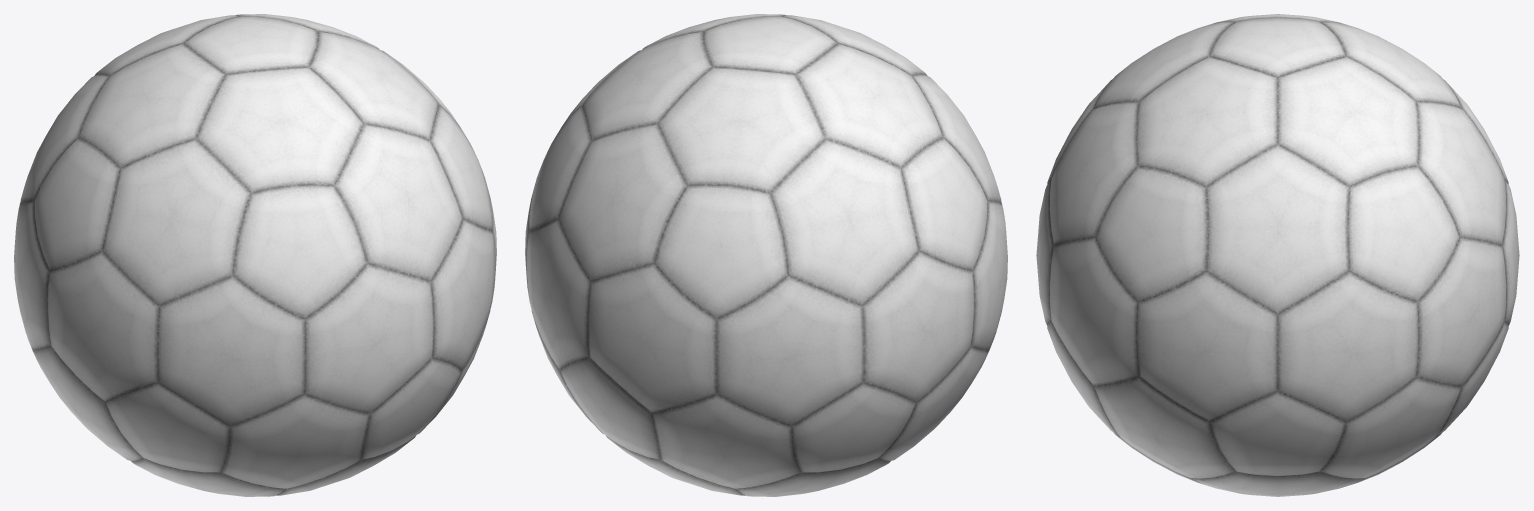
The model's file is ball.fbx.
The picture shows the model from 3 angles, left to right: view 1: azimuth 30°, elevation 25°; view 2: azimuth 150°, elevation 25°; view 3: azimuth 270°, elevation 25°; orthographic projection.
Parts seen in each view (by area): view 1: Icosphere.003; view 2: Icosphere.003; view 3: Icosphere.003.
Part boxes in pixels (x1,y1,x2,y2): Icosphere.003: [14, 14, 496, 496]; Icosphere.003: [525, 14, 1007, 496]; Icosphere.003: [1036, 14, 1519, 496].
Size of the model in its own units: 185 by 185 by 185.
Materials: 1 (1 with a texture image).
